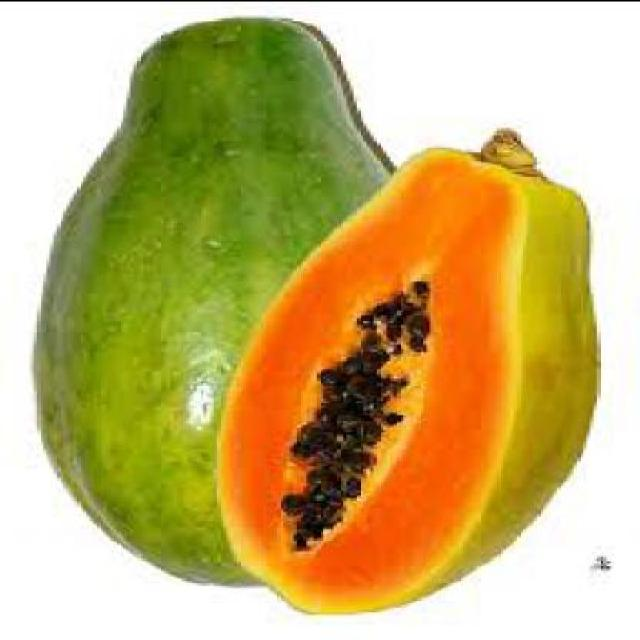BIODEGRADABLE: (30, 14, 387, 584), (209, 119, 597, 612)
